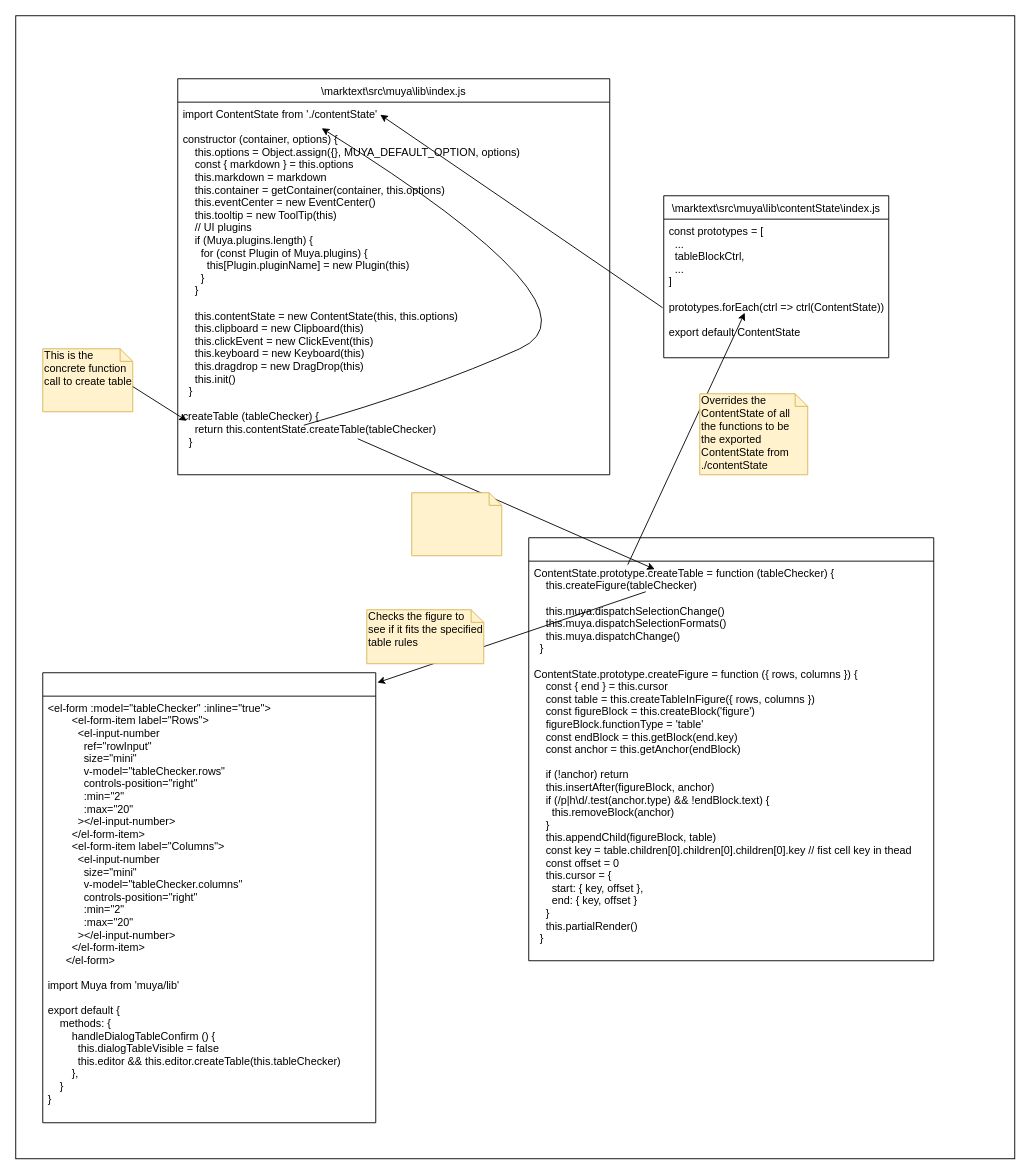
This 1031x1175 diagram has some shape labels left out. Each missing label, with the box of its shape:
\marktext\src\muya\lib\contentState\tableBlockCtrl.js: (528, 537, 934, 961)
\marktext\src\renderer\components\editorWithTabs\editor.vue: (42, 672, 376, 1123)
The call to createTable gets routed to this function: (411, 492, 502, 556)
